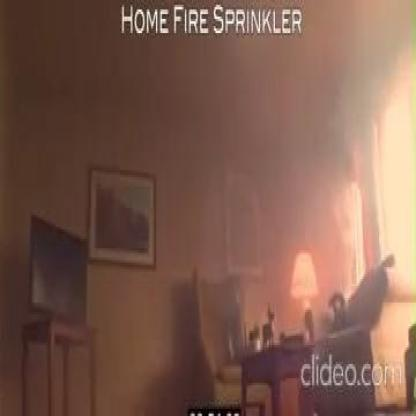fire: (338, 184, 363, 296)
